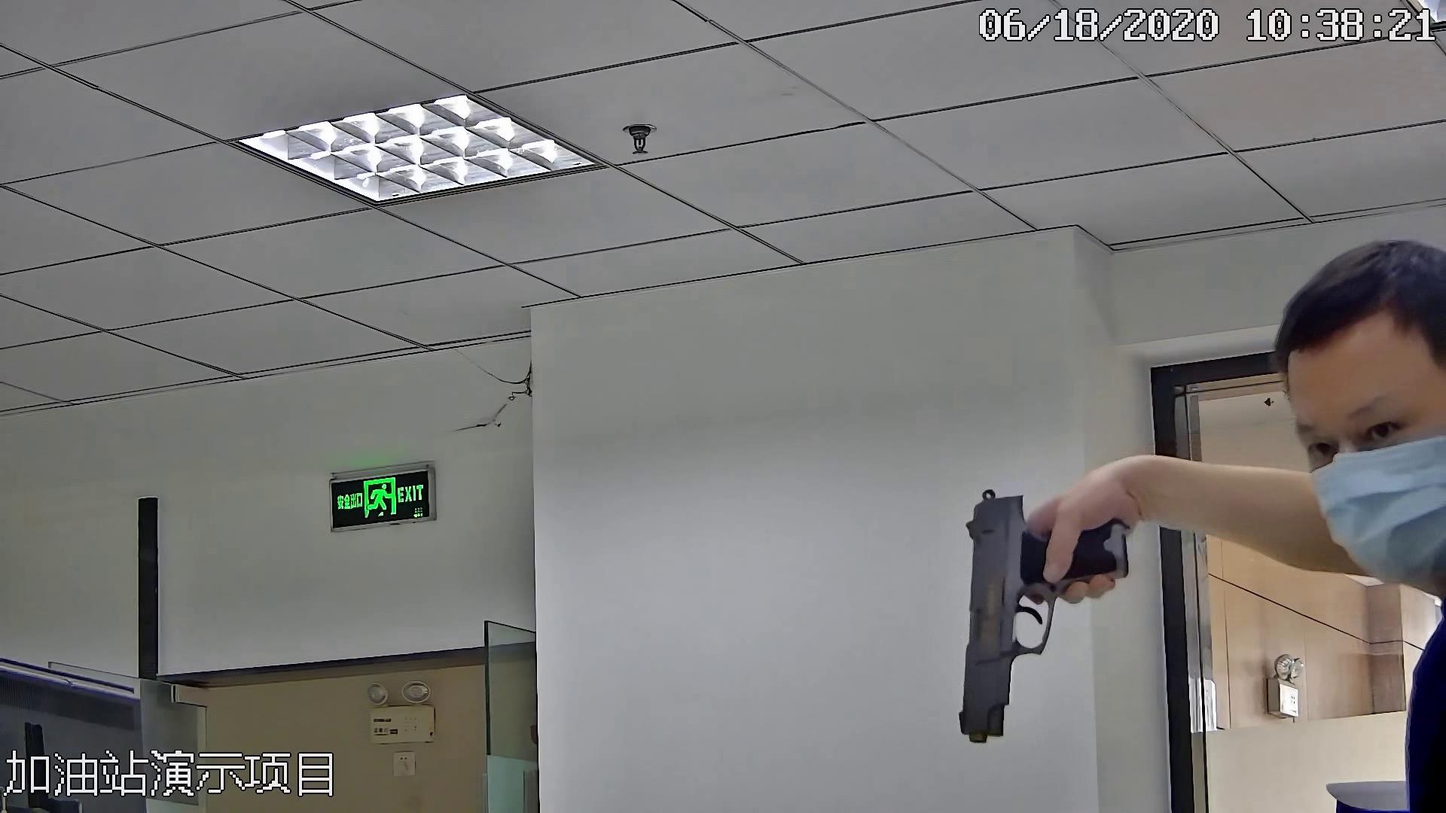gun: (934, 480, 1150, 743)
